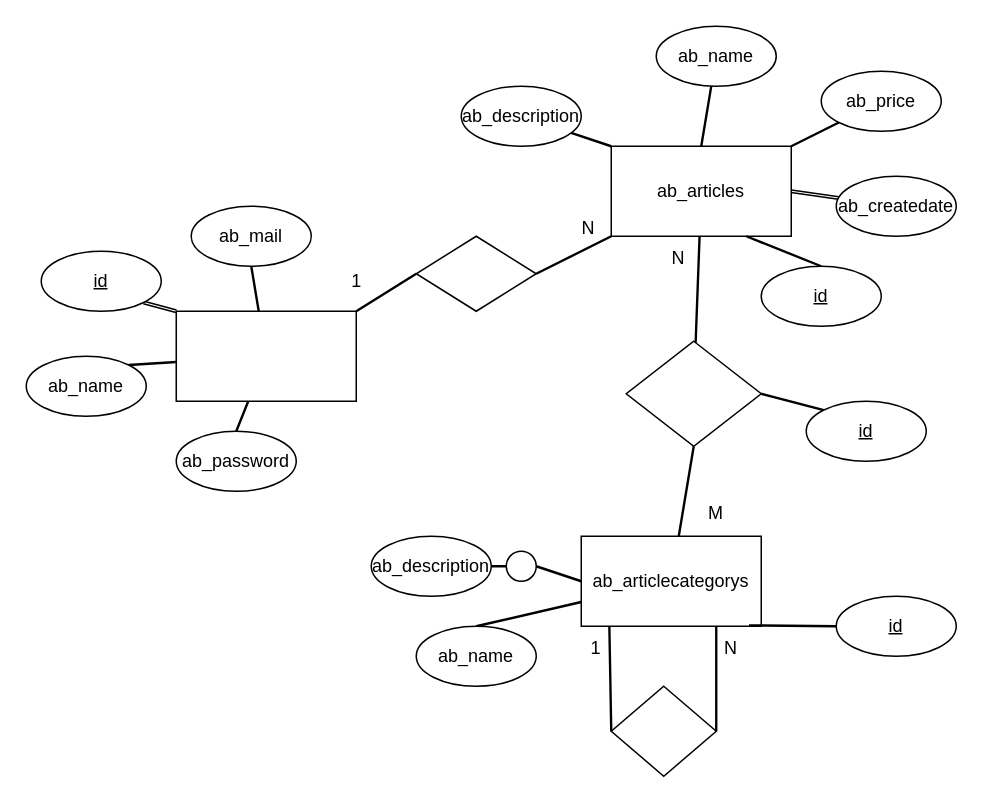
The diagram is 983 pixels wide and 803 high, and some of its shapes have lost their labels. The shapes that lost their labels are listed below. From the top down, each one's centre as x and y in pixels, then its label:
At (x=475, y=273): "has".
At (x=265, y=355): "ab_users".
At (x=693, y=393): "has/belong to".
At (x=663, y=730): "parent".
